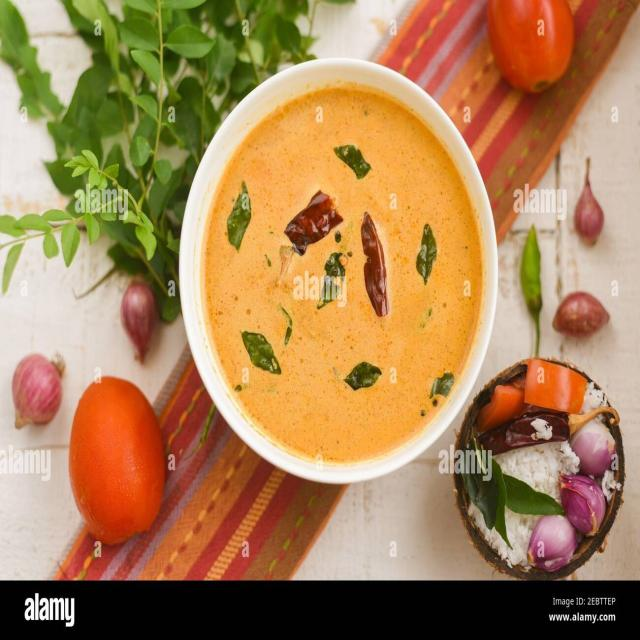kaara chutney: (189, 70, 487, 474)
